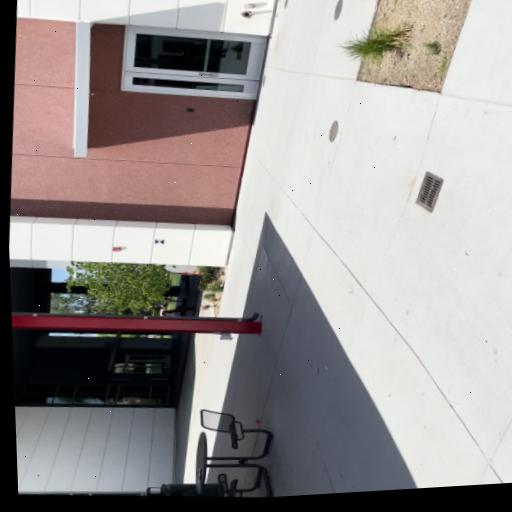target2: (154, 239, 165, 244)
